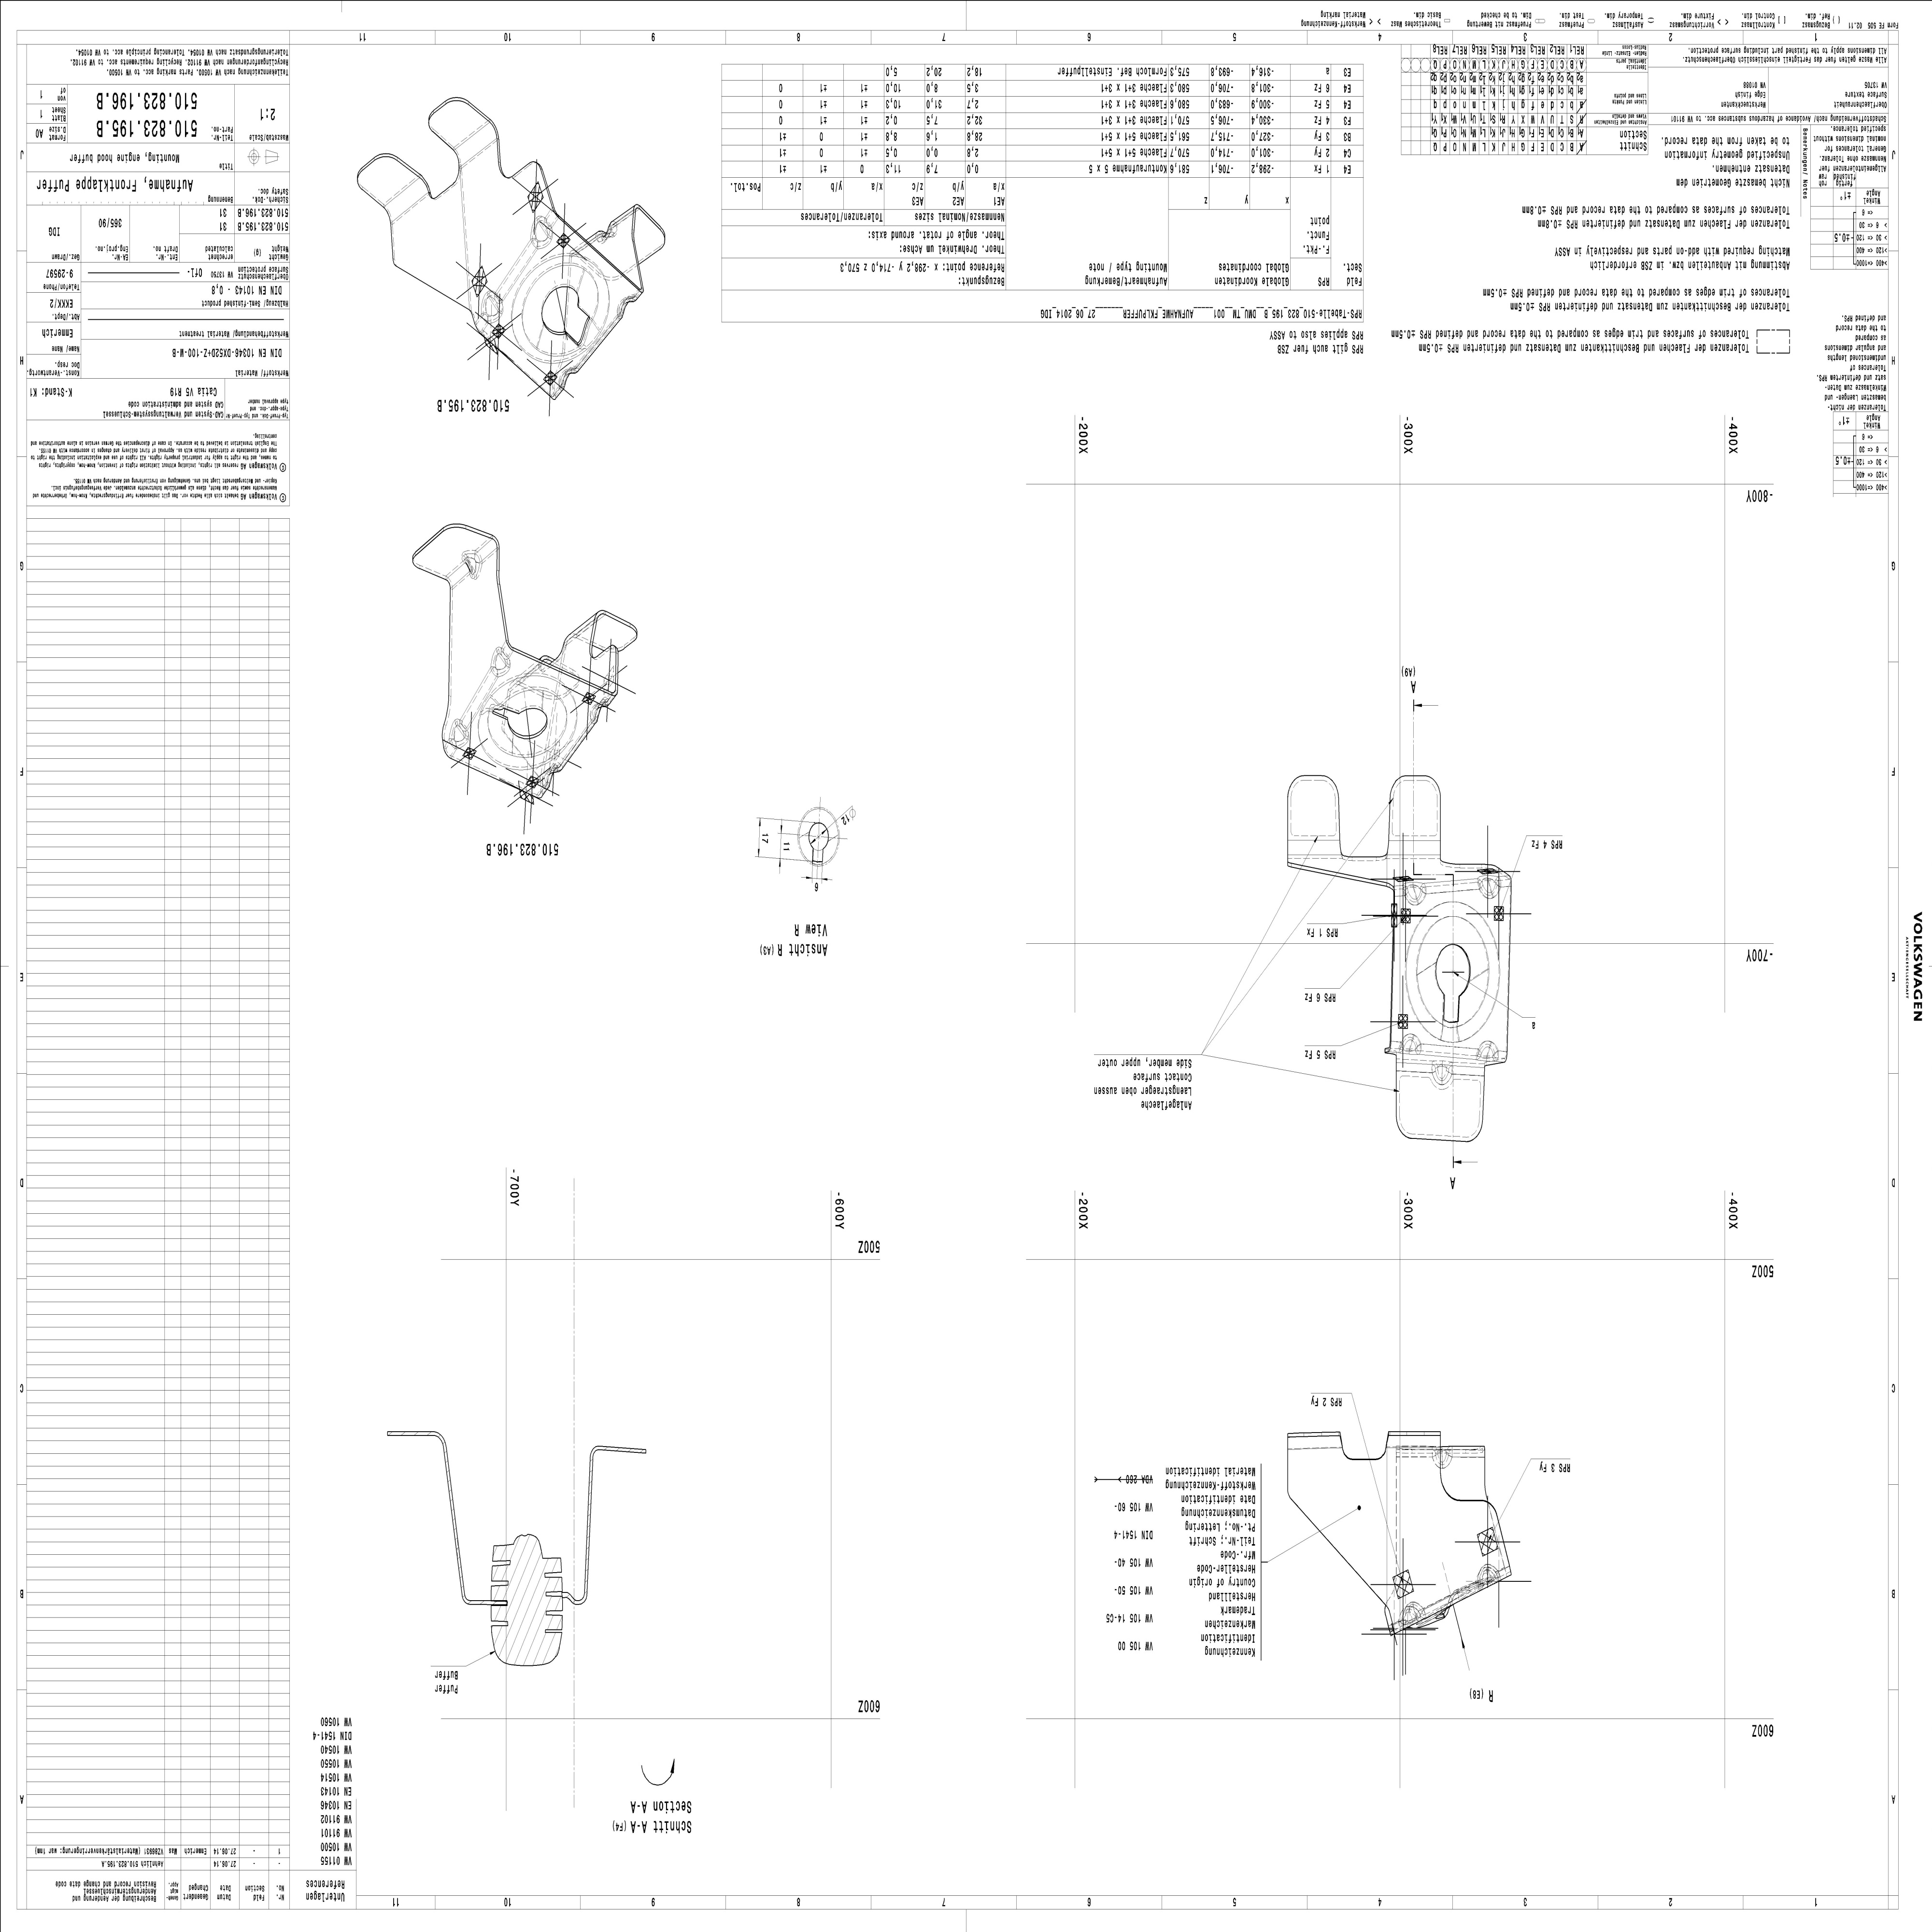BendingEdge: (378, 171, 435, 225), (449, 116, 505, 168), (455, 669, 501, 728), (1425, 1583, 1482, 1620), (559, 723, 595, 767), (565, 605, 608, 641), (1383, 835, 1446, 858), (1283, 838, 1350, 858), (608, 202, 646, 236), (1422, 1039, 1477, 1061), (567, 234, 602, 263), (1426, 879, 1479, 898), (470, 534, 503, 564), (1394, 1059, 1436, 1077), (443, 565, 468, 589), (1456, 1062, 1488, 1080), (1452, 1444, 1486, 1458), (1387, 881, 1406, 898), (1396, 1449, 1429, 1458), (501, 640, 518, 657), (442, 741, 459, 757), (1387, 1622, 1404, 1637), (572, 1591, 589, 1606), (427, 1431, 445, 1444), (1499, 1566, 1515, 1580), (1389, 1038, 1402, 1053), (588, 1446, 605, 1456), (1499, 1048, 1508, 1064), (1500, 877, 1512, 889), (461, 1596, 472, 1605)
Notch: (390, 119, 472, 202), (1332, 770, 1398, 862), (1335, 1423, 1394, 1464)
Reinforcement: (609, 290, 648, 327), (556, 360, 589, 392), (455, 550, 487, 583), (484, 646, 516, 677), (442, 715, 472, 747), (1473, 1560, 1503, 1590), (1400, 1597, 1426, 1626), (1433, 1060, 1456, 1089), (1399, 1031, 1423, 1057), (1475, 1040, 1500, 1065), (1476, 873, 1500, 896), (1406, 881, 1426, 907), (590, 701, 611, 721), (594, 223, 618, 240), (1431, 1450, 1451, 1469), (541, 768, 562, 783)
